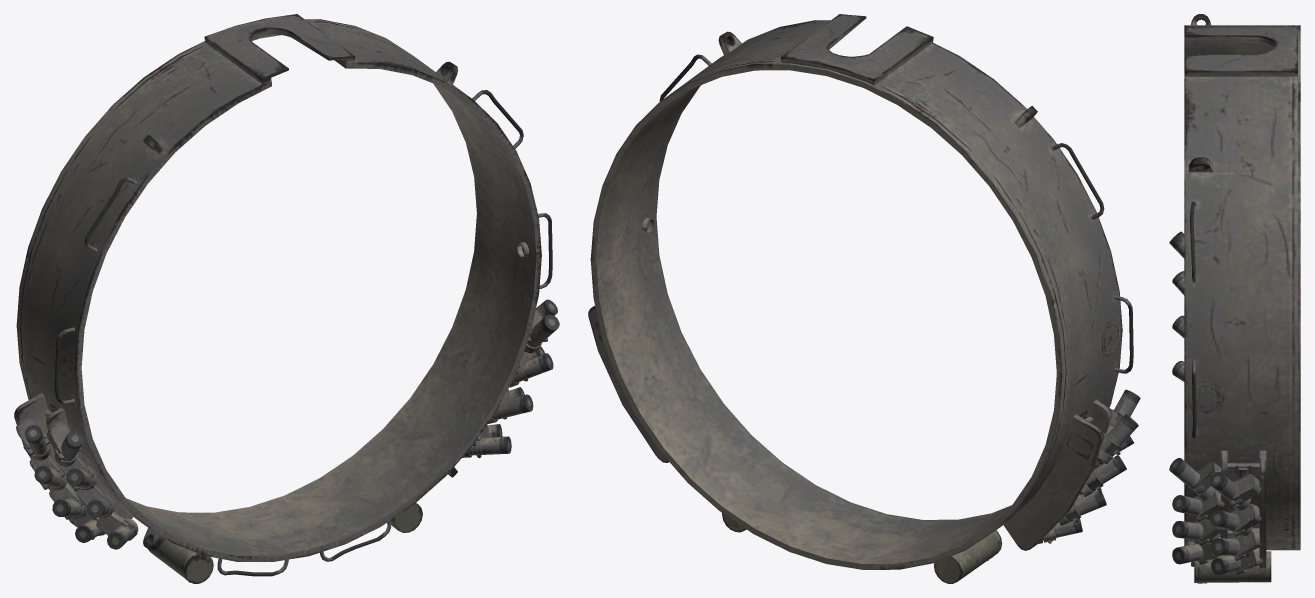
Rendered from Turret_01.glb.
3 renders of one model, left to right at view 1: azimuth 30°, elevation 25°; view 2: azimuth 150°, elevation 25°; view 3: azimuth 270°, elevation 25°, orthographic. The views are drawn at different scales.
Parts seen in each view (by area): view 1: set_0_group_0; view 2: set_0_group_0; view 3: set_0_group_0.
Boxes of the visible parts, <box> form: set_0_group_0: <box>14,14,559,583</box>; set_0_group_0: <box>588,14,1140,583</box>; set_0_group_0: <box>1169,14,1300,583</box>.
Bounding box in the file's own units: 3.1 × 2.84 × 0.6807.
Materials: 1 (1 with a texture image).
